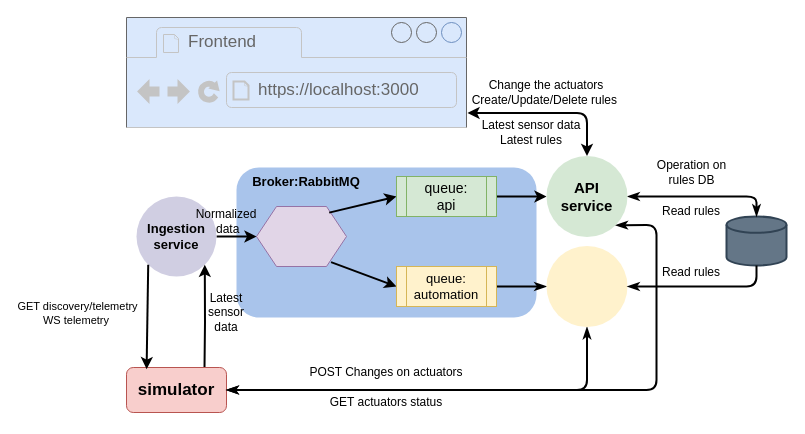
This 805x434 diagram has some shape labels left out. Each missing label, with the centre of its shape:
"automation service" belongs at (x=586, y=286).
"Exchange: Fanout" belongs at (x=301, y=236).
"Rules DB" belongs at (x=756, y=240).
